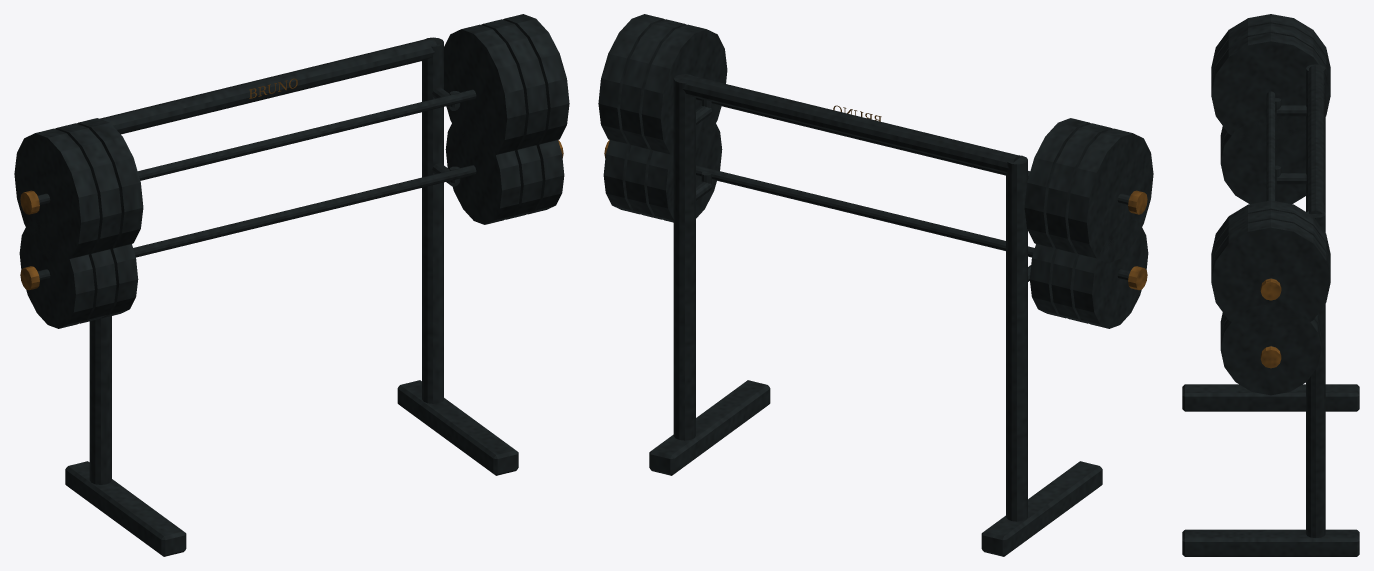
Rendered from training_rack.glb.
The picture shows the model from 3 angles, left to right: view 1: azimuth 30°, elevation 25°; view 2: azimuth 150°, elevation 25°; view 3: azimuth 270°, elevation 25°; orthographic projection. The views are drawn at different scales.
Visible parts, largest first — view 1: training_rack; view 2: training_rack; view 3: training_rack.
Boxes of the visible parts, x1,y1,x2,y2 form: training_rack: (14,14,569,556); training_rack: (598,14,1153,556); training_rack: (1182,14,1359,556).
Size of the model in its own units: 2.95 by 2.12 by 0.95.
2 materials, 2 textured.
